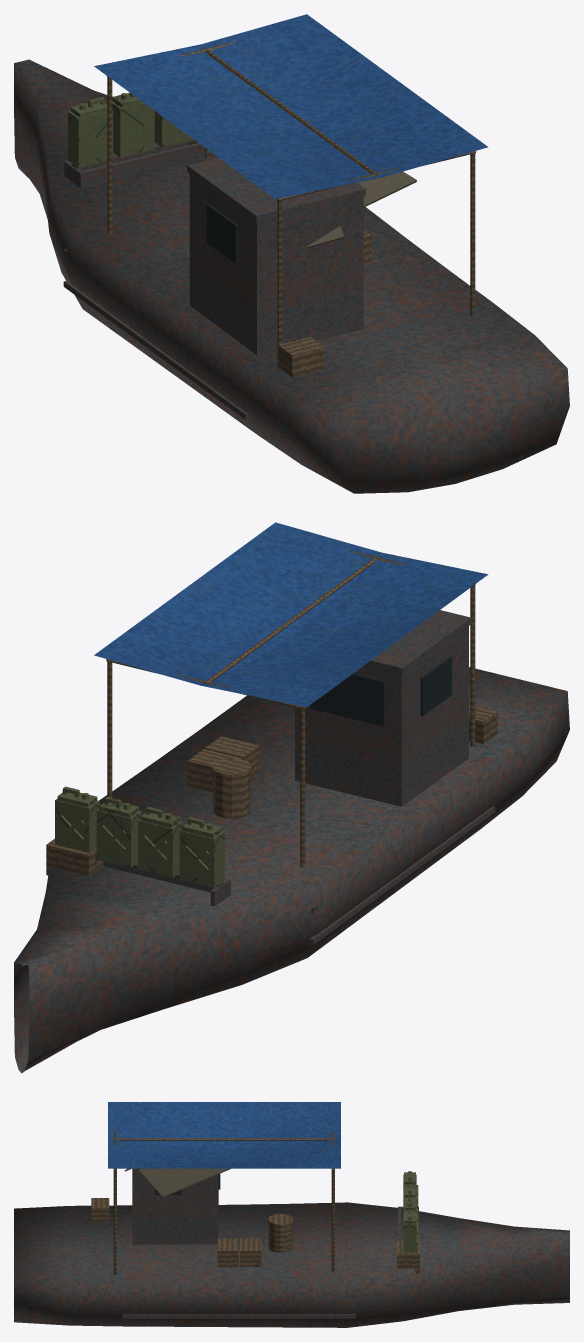
The model's file is veh_boat_camp.glb.
3 renders of one model, top to bottom at view 1: azimuth 30°, elevation 25°; view 2: azimuth 150°, elevation 25°; view 3: azimuth 270°, elevation 25°, orthographic. The views are drawn at different scales.
Parts seen in each view (by area): view 1: hull, tarp_player, cabin, tarp_poles, fuel_rack, fuel_can_01, fuel_can_02, dressing_crates, gunwale_rails, tarp_taken, cabin_glass, fuel_can_03; view 2: hull, tarp_player, cabin, dressing_crates, tarp_poles, cabin_glass, fuel_can_01, fuel_can_02, fuel_can_03, fuel_can_04, dressing_barrel, gunwale_rails (+1 smaller); view 3: hull, tarp_player, cabin, dressing_crates, tarp_poles, tarp_taken, gunwale_rails, dressing_barrel, fuel_can_04.
Part boxes in pixels (x1,y1,x2,y2): hull: (14,59,569,493); tarp_player: (94,14,488,199); cabin: (187,157,365,354); tarp_poles: (107,41,476,362); fuel_rack: (64,140,205,188); fuel_can_01: (68,97,113,167); fuel_can_02: (112,92,154,157); dressing_crates: (188,141,371,377); gunwale_rails: (63,249,249,419); tarp_taken: (305,171,416,248); cabin_glass: (206,204,237,263); fuel_can_03: (154,111,193,147); hull: (14,667,569,1073); tarp_player: (94,522,488,707); cabin: (295,610,471,806); dressing_crates: (46,704,497,875); tarp_poles: (106,550,475,867); cabin_glass: (310,656,451,726); fuel_can_01: (179,817,224,887); fuel_can_02: (138,807,183,877); fuel_can_03: (96,796,141,867); fuel_can_04: (55,786,99,852); dressing_barrel: (212,758,251,818); gunwale_rails: (309,806,495,944); hull: (14,1202,569,1327); tarp_player: (108,1102,340,1168); cabin: (132,1168,218,1244); dressing_crates: (91,1198,419,1273); tarp_poles: (113,1128,335,1275); tarp_taken: (124,1168,230,1197); gunwale_rails: (123,1294,355,1318); dressing_barrel: (268,1213,293,1252); fuel_can_04: (403,1210,418,1252).
Bounding box in the file's own units: 2.51 × 2.46 × 7.4.
Materials: 7 (7 with a texture image).
